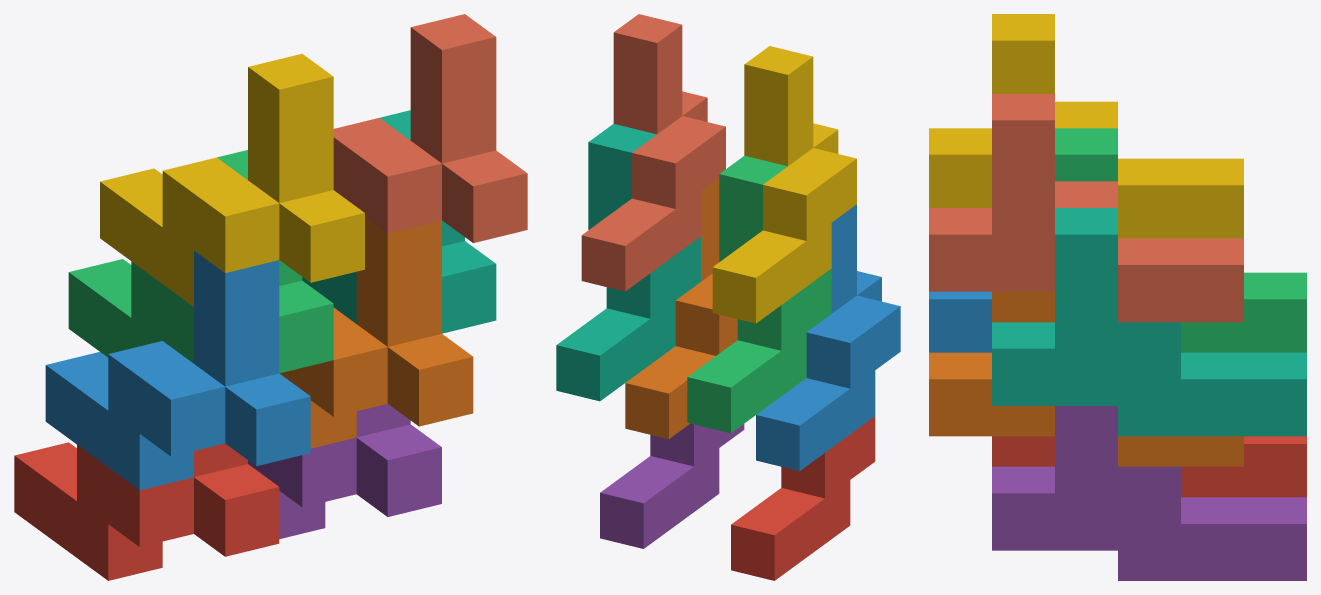
File: tiling.obj
3 views of the same model, side by side, from view 1: azimuth 30°, elevation 25°; view 2: azimuth 150°, elevation 25°; view 3: azimuth 270°, elevation 25° (orthographic). The views are drawn at different scales.
Parts seen in each view (by area): view 1: copy_1_domain_2, copy_1_domain_4, copy_1_domain_8, copy_1_domain_1, copy_1_domain_6, copy_1_domain_3, copy_1_domain_5, copy_1_domain_7; view 2: copy_1_domain_4, copy_1_domain_8, copy_1_domain_2, copy_1_domain_7, copy_1_domain_3, copy_1_domain_1, copy_1_domain_6, copy_1_domain_5; view 3: copy_1_domain_7, copy_1_domain_5, copy_1_domain_8, copy_1_domain_4, copy_1_domain_6, copy_1_domain_3, copy_1_domain_1, copy_1_domain_2.
Part boxes in pixels (left/top/right/bottom): copy_1_domain_2: left=45, top=250, right=310, bottom=490; copy_1_domain_4: left=100, top=53, right=364, bottom=306; copy_1_domain_8: left=333, top=14, right=527, bottom=242; copy_1_domain_1: left=14, top=442, right=279, bottom=580; copy_1_domain_6: left=279, top=217, right=473, bottom=448; copy_1_domain_3: left=68, top=150, right=333, bottom=373; copy_1_domain_5: left=248, top=403, right=441, bottom=538; copy_1_domain_7: left=302, top=110, right=496, bottom=333; copy_1_domain_4: left=712, top=46, right=856, bottom=323; copy_1_domain_8: left=581, top=14, right=725, bottom=291; copy_1_domain_2: left=756, top=204, right=900, bottom=471; copy_1_domain_7: left=556, top=123, right=700, bottom=401; copy_1_domain_3: left=687, top=155, right=831, bottom=433; copy_1_domain_1: left=731, top=416, right=875, bottom=580; copy_1_domain_6: left=625, top=177, right=737, bottom=439; copy_1_domain_5: left=600, top=423, right=744, bottom=548; copy_1_domain_7: left=992, top=208, right=1306, bottom=436; copy_1_domain_5: left=992, top=406, right=1306, bottom=580; copy_1_domain_8: left=929, top=94, right=1243, bottom=322; copy_1_domain_4: left=929, top=14, right=1243, bottom=238; copy_1_domain_6: left=929, top=291, right=1243, bottom=466; copy_1_domain_3: left=1055, top=128, right=1306, bottom=352; copy_1_domain_1: left=992, top=436, right=1306, bottom=497; copy_1_domain_2: left=929, top=291, right=991, bottom=352.
Size of the model in its own units: 6 by 9 by 6.
